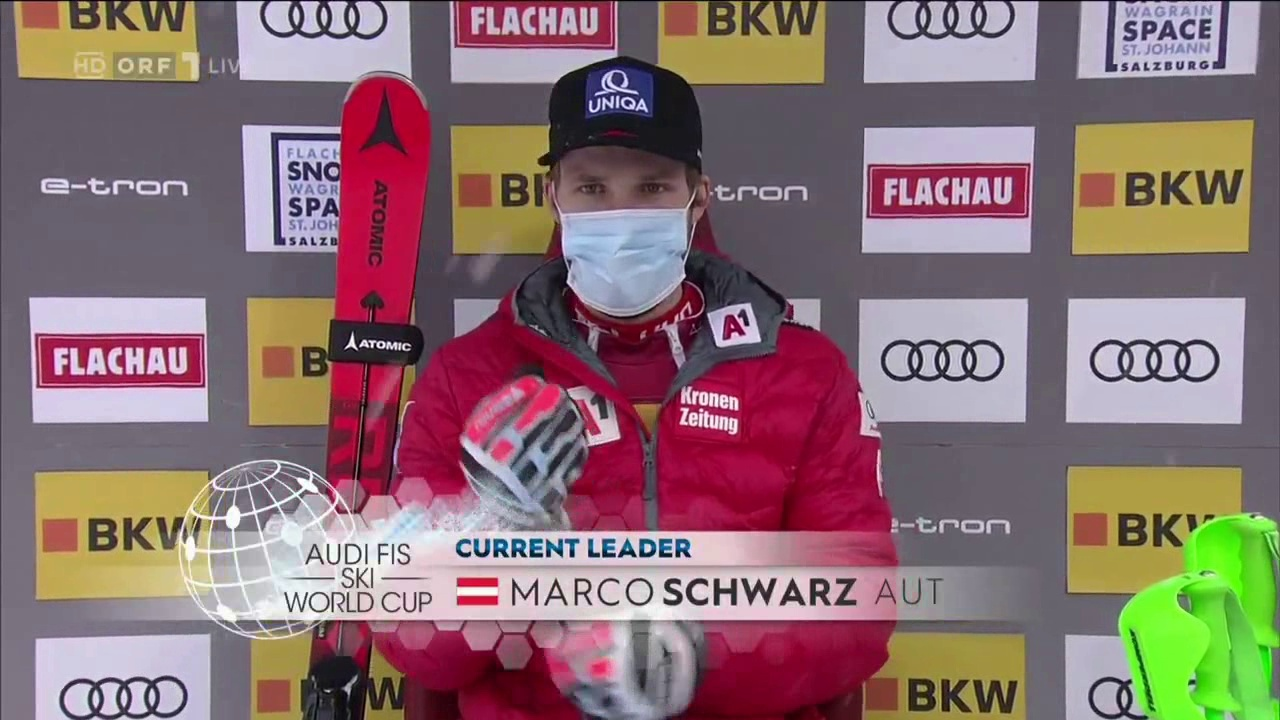BKW: (41, 488, 223, 566), (1077, 143, 1240, 226), (1074, 496, 1225, 573)
a1: (572, 396, 617, 442), (714, 307, 762, 349)
audi: (1093, 335, 1222, 388), (880, 336, 1003, 388), (260, 1, 390, 50), (55, 672, 188, 719), (888, 2, 1018, 50)
etron: (39, 178, 198, 205), (886, 513, 1017, 542), (698, 179, 813, 208)
flachau: (37, 333, 199, 390), (874, 162, 1022, 224), (459, 1, 609, 55)
kronenzeitung: (682, 387, 743, 436)
uniqa: (590, 67, 654, 121)
